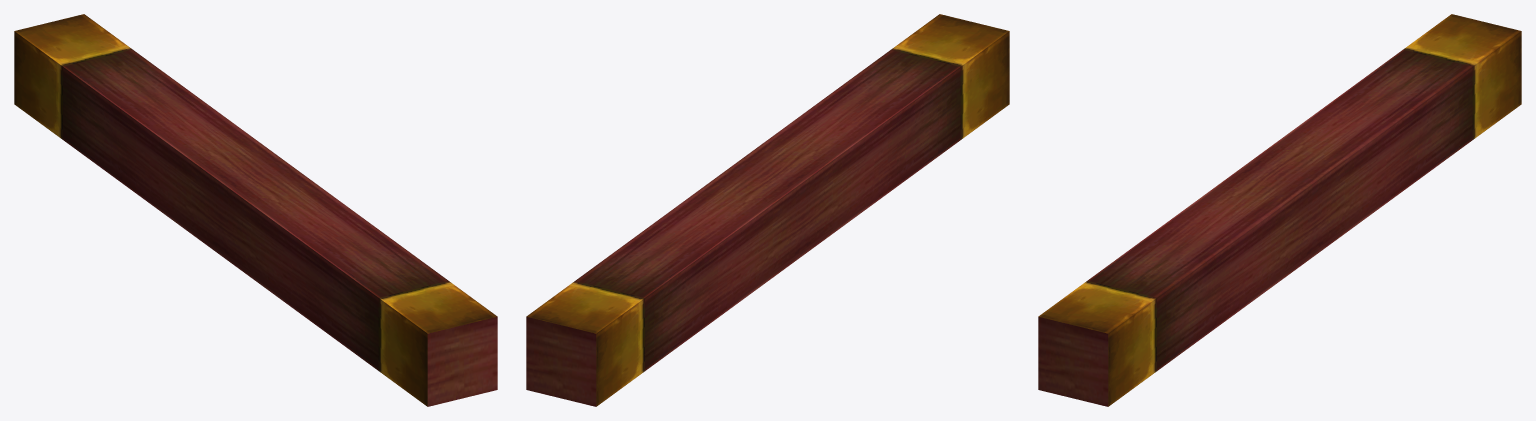
File: environment_Building_hantianta_001_d.FBX
3 renders of one model, left to right at view 1: azimuth 30°, elevation 25°; view 2: azimuth 150°, elevation 25°; view 3: azimuth 330°, elevation 25°, orthographic.
Visible parts, largest first — view 1: environment_Building_hantianta_001_d; view 2: environment_Building_hantianta_001_d; view 3: environment_Building_hantianta_001_d.
Boxes of the visible parts, x1=… form: environment_Building_hantianta_001_d: x1=14, y1=14, x2=497, y2=406; environment_Building_hantianta_001_d: x1=526, y1=14, x2=1009, y2=406; environment_Building_hantianta_001_d: x1=1038, y1=14, x2=1521, y2=406.
Bounding box in the file's own units: 86.34 × 86.34 × 883.
1 material, 1 textured.
